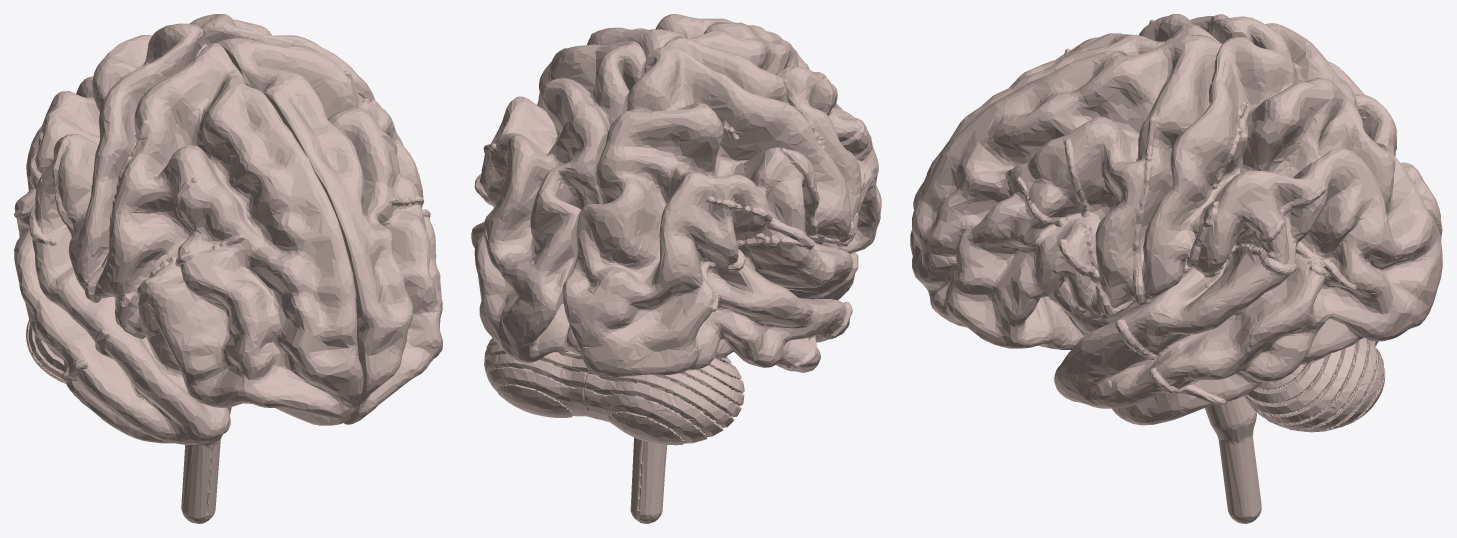
File: beyin.glb
3 views of the same model, side by side, from view 1: azimuth 30°, elevation 25°; view 2: azimuth 150°, elevation 25°; view 3: azimuth 270°, elevation 25° (orthographic). The views are drawn at different scales.
Parts seen in each view (by area): view 1: sag|yarim, sol|yarim; view 2: sag|yarim, sol|yarim; view 3: sol|yarim, sag|yarim.
Part boxes in pixels (<box>): sag|yarim: <box>14,23,363,523</box>; sol|yarim: <box>189,14,442,523</box>; sag|yarim: <box>562,22,881,523</box>; sol|yarim: <box>471,14,735,523</box>; sol|yarim: <box>912,35,1442,523</box>; sag|yarim: <box>910,14,1442,503</box>.
Size of the model in its own units: 128 by 179 by 174.
